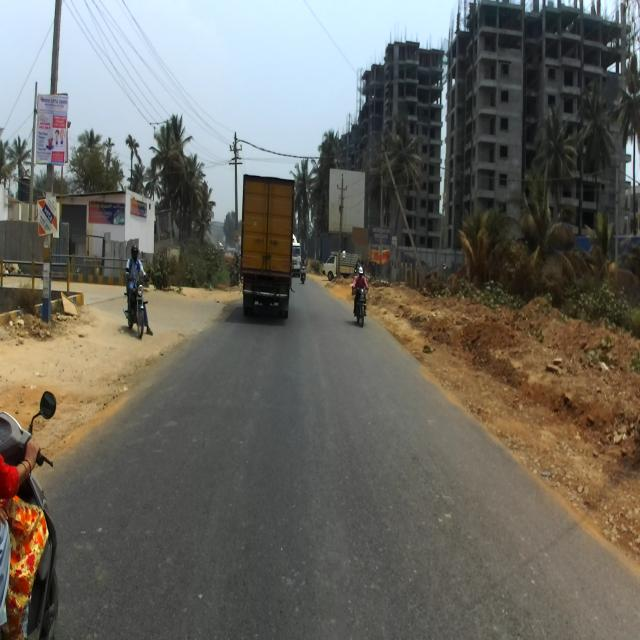electric pole ahead at: (30, 0, 73, 341)
motorcycle ahead at: (0, 380, 63, 640), (119, 266, 154, 346)
truck ahead at: (235, 170, 296, 322)
